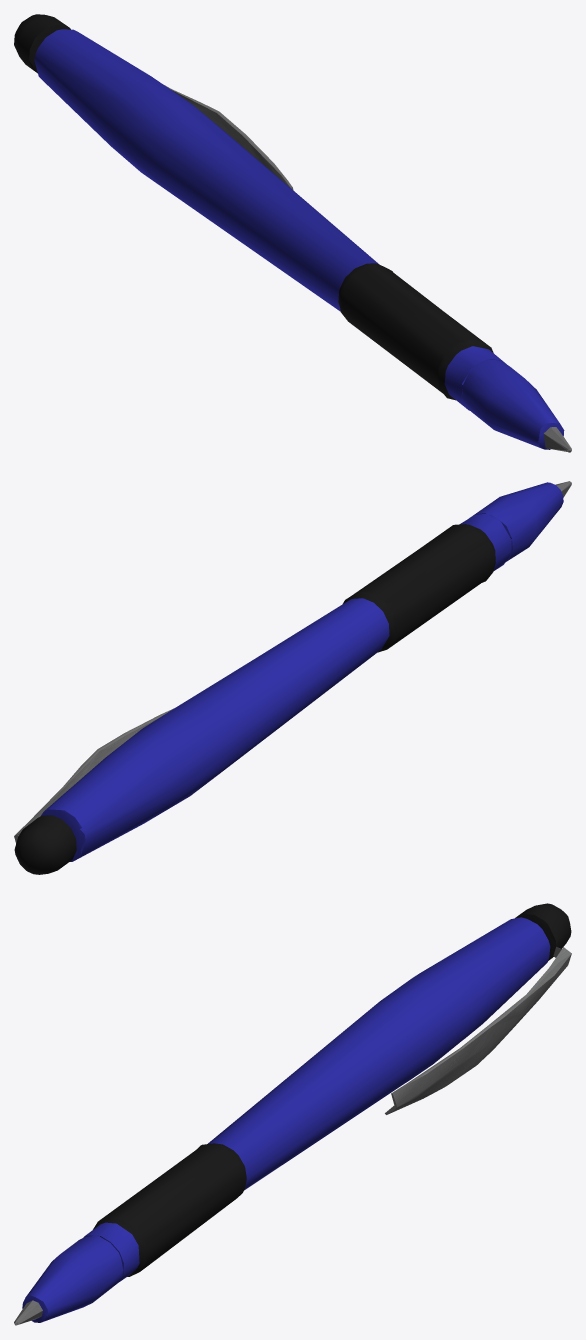
File: Pen.FBX
The picture shows the model from 3 angles, top to bottom: view 1: azimuth 30°, elevation 25°; view 2: azimuth 150°, elevation 25°; view 3: azimuth 330°, elevation 25°; orthographic projection. The views are drawn at different scales.
Parts seen in each view (by area): view 1: Pen; view 2: Pen; view 3: Pen.
Part boxes in pixels (x1=…): Pen: x1=14, y1=14, x2=571, y2=452; Pen: x1=14, y1=481, x2=571, y2=874; Pen: x1=14, y1=903, x2=571, y2=1325.
Bounding box in the file's own units: 1.61 × 1.19 × 15.44.
1 material, 1 textured.
